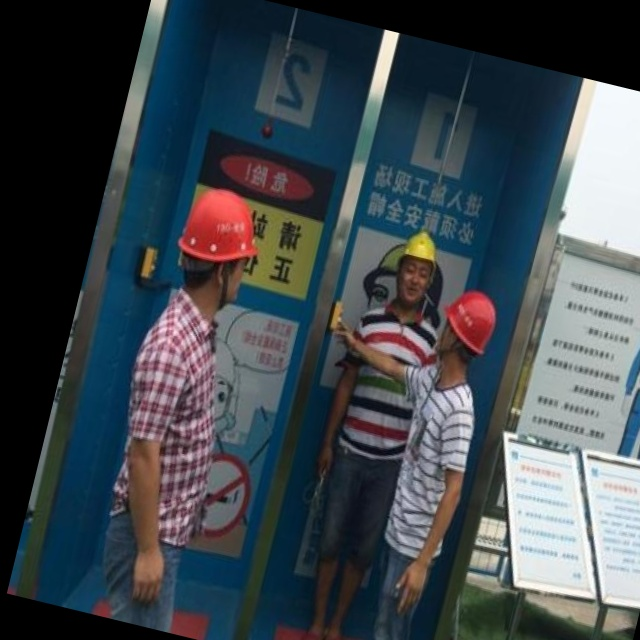Con_Casco: (171, 176, 269, 298), (436, 286, 503, 365), (388, 229, 442, 307)
Sin_Chaleco: (103, 301, 237, 541)
